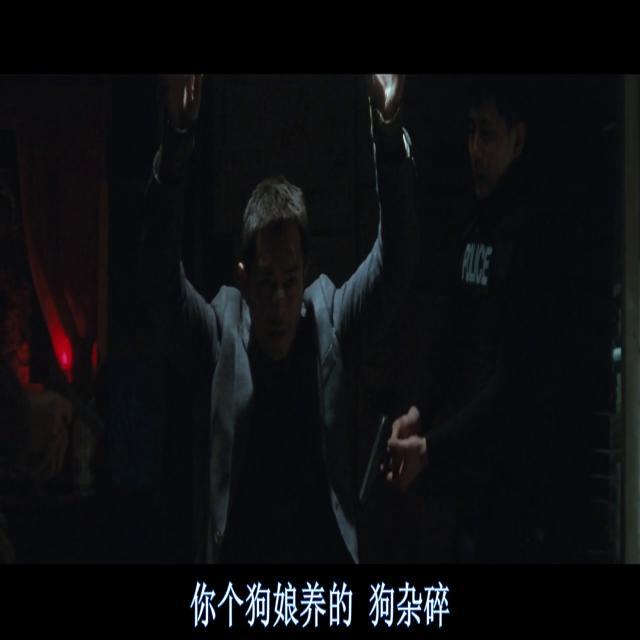gun-knife-thesis - v11 Yolov5 augmented: (356, 408, 410, 516)
